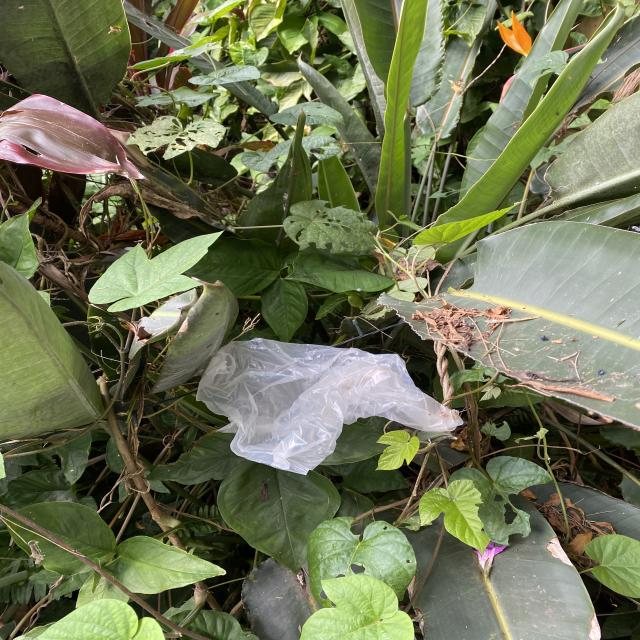cloth: (203, 335, 468, 479)
